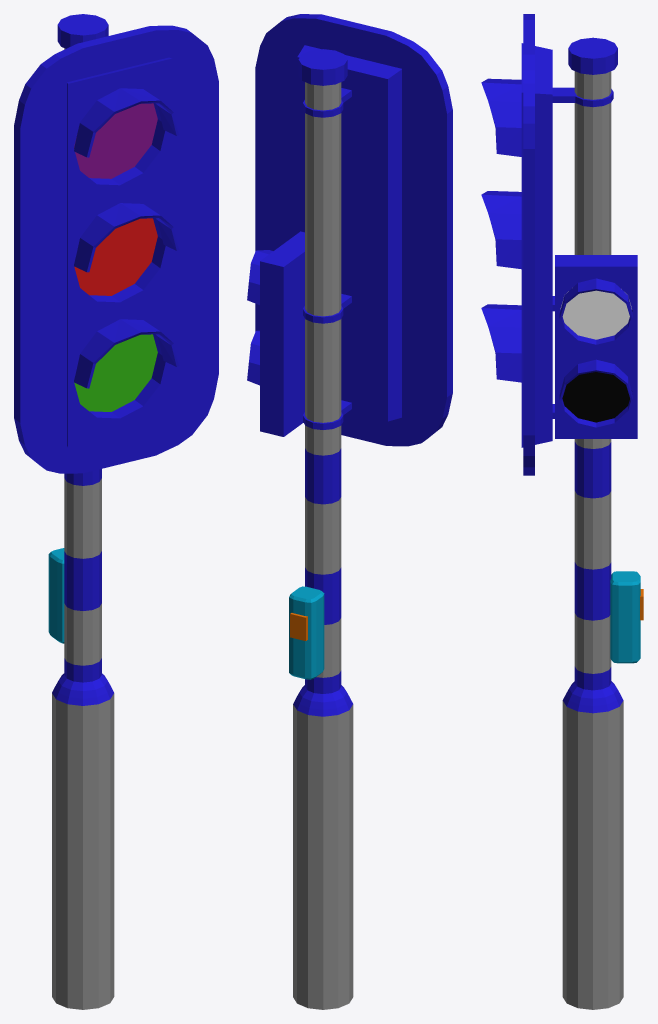
File: Stoplicht_Dubbel_2.FBX
3 views of the same model, side by side, from view 1: azimuth 30°, elevation 25°; view 2: azimuth 150°, elevation 25°; view 3: azimuth 270°, elevation 25° (orthographic). The views are drawn at different scales.
Parts seen in each view (by area): view 1: Stoplicht2; view 2: Stoplicht2; view 3: Stoplicht2.
Part boxes in pixels (bbox=[...]): Stoplicht2: bbox=[14, 14, 218, 1009]; Stoplicht2: bbox=[247, 14, 452, 1009]; Stoplicht2: bbox=[481, 14, 643, 1009].
Bounding box in the file's own units: 51.44 × 243 × 37.31.
